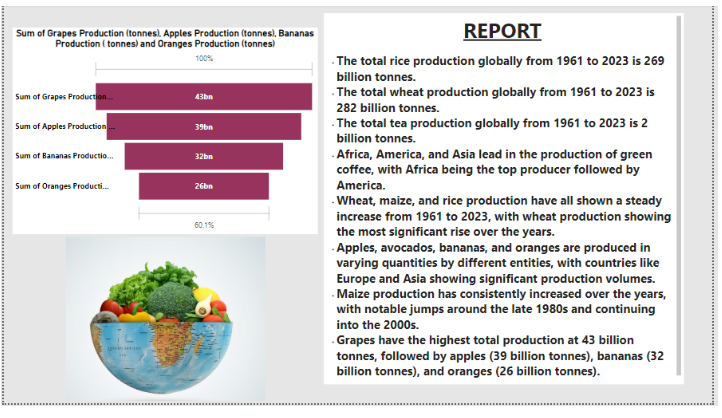

The page's visual inventory and layout, read from the dashboard file:
{"tool":"powerbi","page":{"name":"Page 2","canvas":[1280,720],"ordinal":1},"visuals":[{"type":"funnel","title":"Sum of Grapes Production (tonnes), Apples Production (tonnes), Bananas  Production ( tonnes) and Oranges  Production (tonnes)","fields":{"Y":["Sum(world food production.Grapes  Production (tonnes))","Sum(world food production.Apples Production (tonnes))","Sum(world food production.Bananas  Production ( tonnes))","Sum(world food production.Oranges  Production (tonnes))"]},"box":[10,0,581.4,334.3],"z":0},{"type":"textbox","box":[730,45.7,550,314.3],"z":1000},{"type":"textbox","box":[610,21.4,670,680],"z":4000},{"type":"image","box":[10,360,581.4,341.4],"z":4002}]}

Visuals, with their boxes in screenshot pixels (x1, y1, x2, y2), scaled from the page's 1280x720 canvas onto the 722x418 screenshot:
"Sum of Grapes Production (tonnes), Apples Production (tonnes), Bananas  Production ( tonnes) and Oranges  Production (tonnes)" funnel: Rect(6, 0, 334, 194)
textbox: Rect(412, 27, 721, 209)
textbox: Rect(344, 12, 721, 407)
image: Rect(6, 209, 334, 407)
